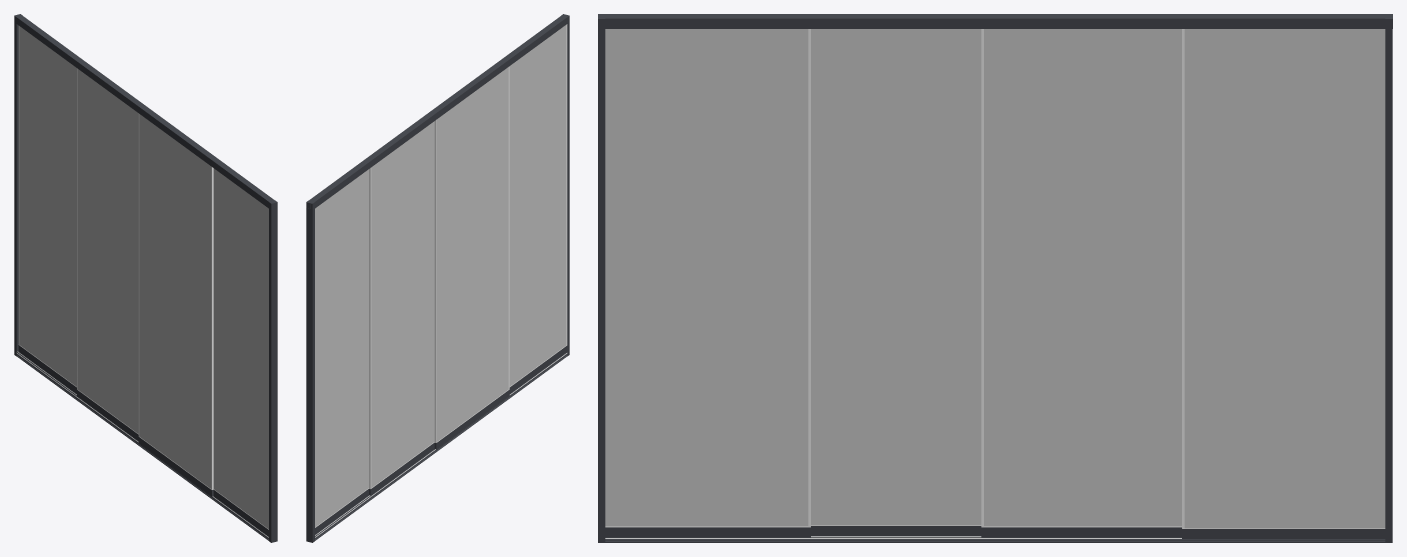
Rendered from nebbiolo_sliding_door_left_500_350.glb.
The picture shows the model from 3 angles, left to right: view 1: azimuth 30°, elevation 25°; view 2: azimuth 150°, elevation 25°; view 3: azimuth 270°, elevation 25°; orthographic projection. The views are drawn at different scales.
Parts seen in each view (by area): view 1: sliding_door_left_500_350; view 2: sliding_door_left_500_350; view 3: sliding_door_left_500_350.
Boxes of the visible parts, left/top/right/bottom form: sliding_door_left_500_350: left=14, top=14, right=277, bottom=542; sliding_door_left_500_350: left=306, top=14, right=569, bottom=542; sliding_door_left_500_350: left=598, top=14, right=1392, bottom=542.
Size of the model in its own units: 0.0501 by 2.5 by 3.44.
Materials: 3 (1 with a texture image).
